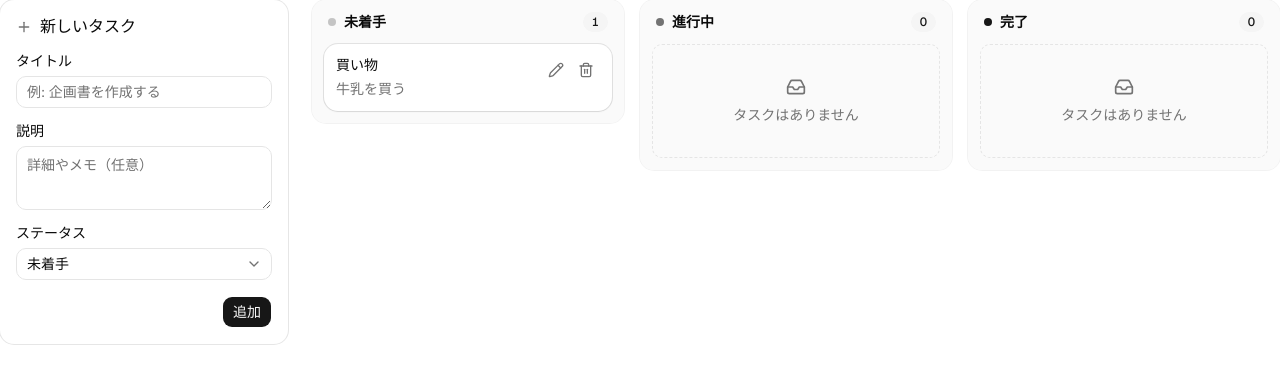
Test: タスクの編集 › 内容を変えて保存すると、カードの表示がすぐ更新され編集フォームが閉じる
This screenshot has width=1280, height=372.
Step 1. Click the button named "編集" → click(556, 70), box x1=542 y1=56 x2=570 y2=84
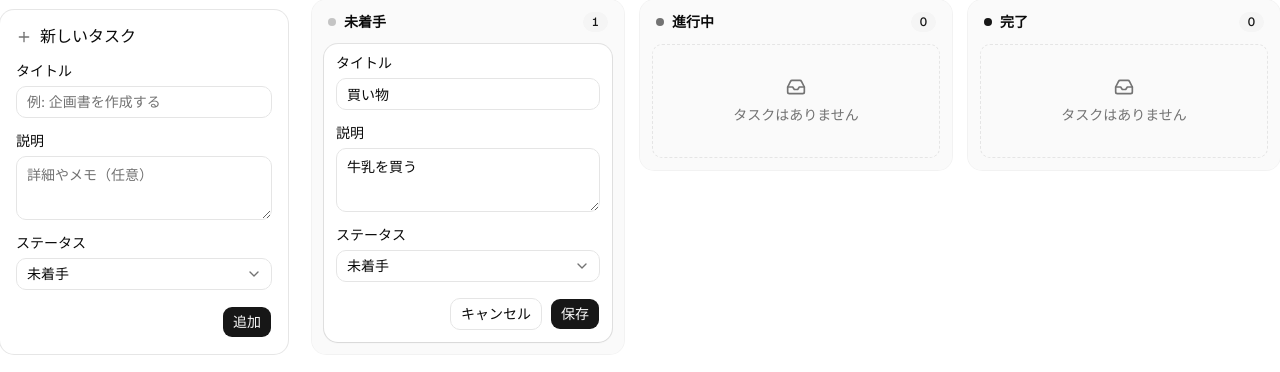
Step 2. Replace the text in the field labelled "タイトル" below "未着手" with "まとめ買い" → (468, 94), box x1=336 y1=78 x2=600 y2=110
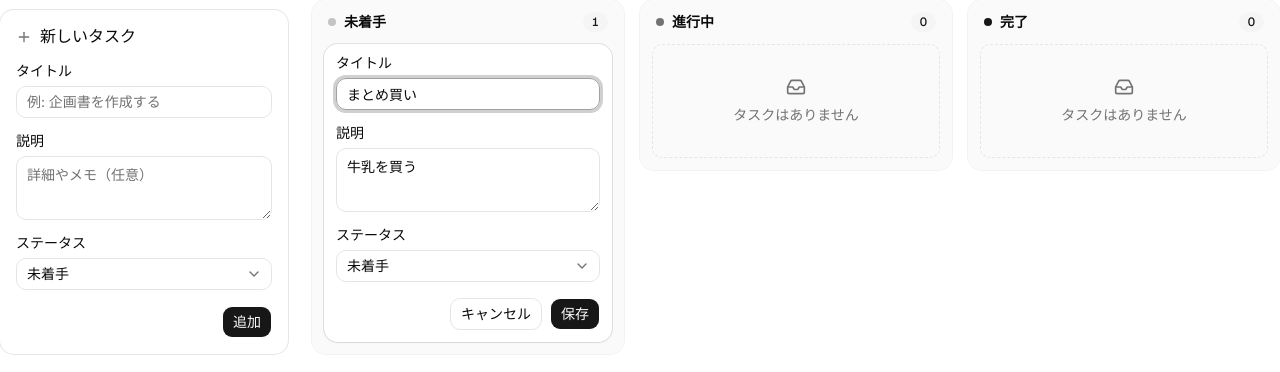
Step 3. Click the button "保存" → click(575, 314), box x1=550 y1=298 x2=600 y2=330
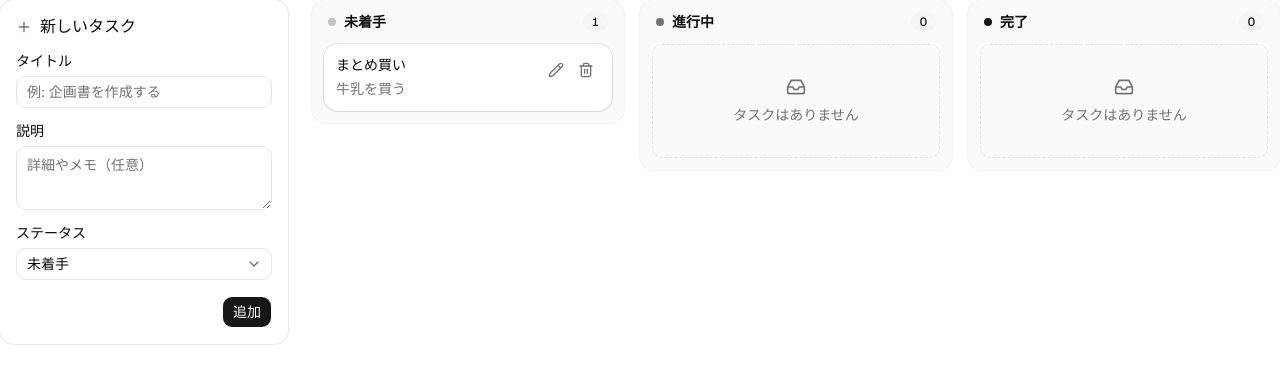
Check: the field labelled "買い物" is not shown
Check: the element "まとめ買い" is shown, box x1=324 y1=44 x2=612 y2=111
